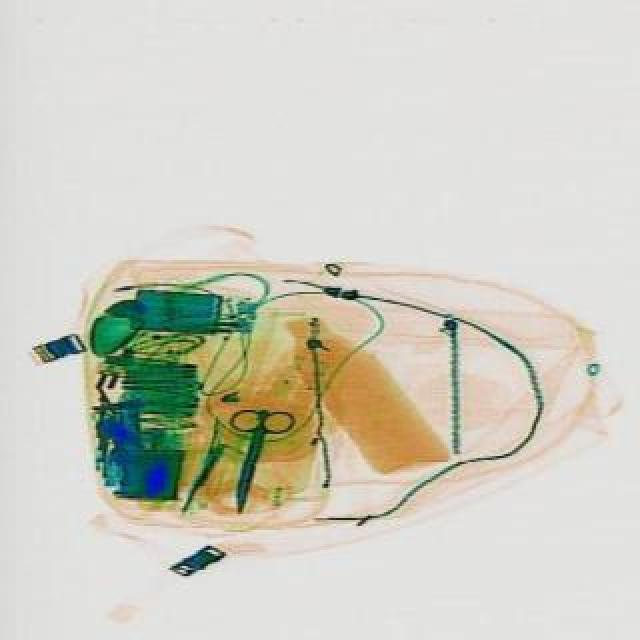pliers: (206, 402, 292, 520)
